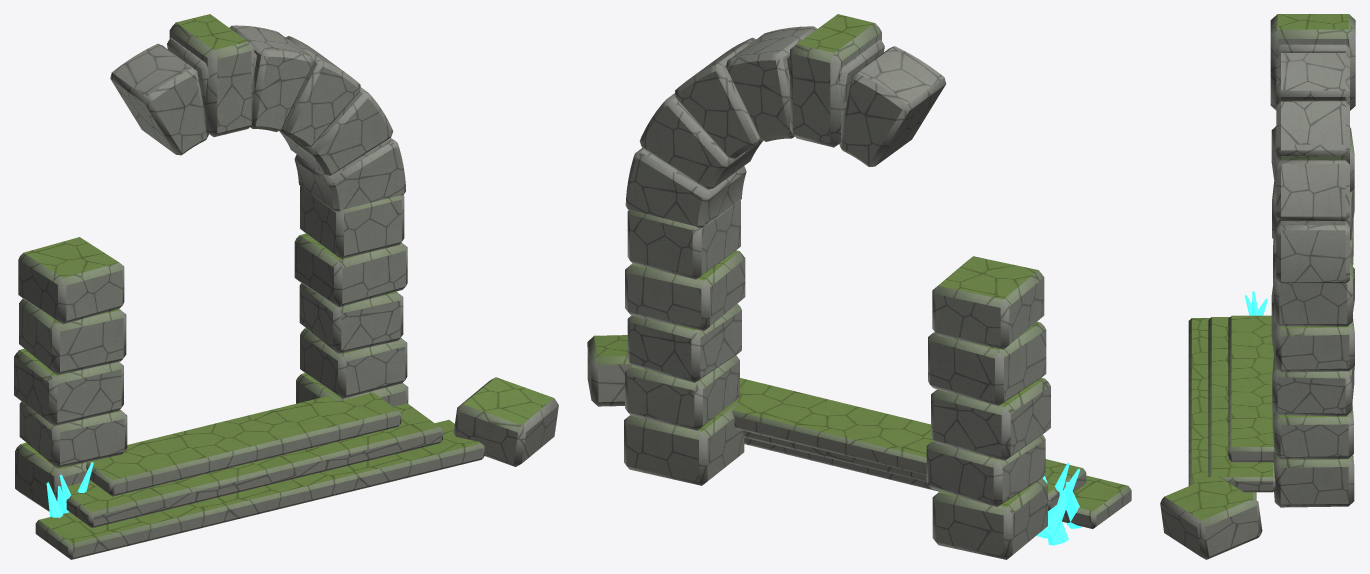
The model's file is stone_arch_broken.glb.
3 renders of one model, left to right at view 1: azimuth 30°, elevation 25°; view 2: azimuth 150°, elevation 25°; view 3: azimuth 270°, elevation 25°, orthographic. The views are drawn at different scales.
Visible parts, largest first — view 1: stone_arch_broken; view 2: stone_arch_broken; view 3: stone_arch_broken.
Boxes of the visible parts, x1=… form: stone_arch_broken: x1=14, y1=14, x2=558, y2=559; stone_arch_broken: x1=587, y1=14, x2=1131, y2=559; stone_arch_broken: x1=1160, y1=14, x2=1355, y2=559.
Size of what is drawn, in the model's own units: 9.51 by 8.26 by 3.45.
2 materials, 1 textured.
